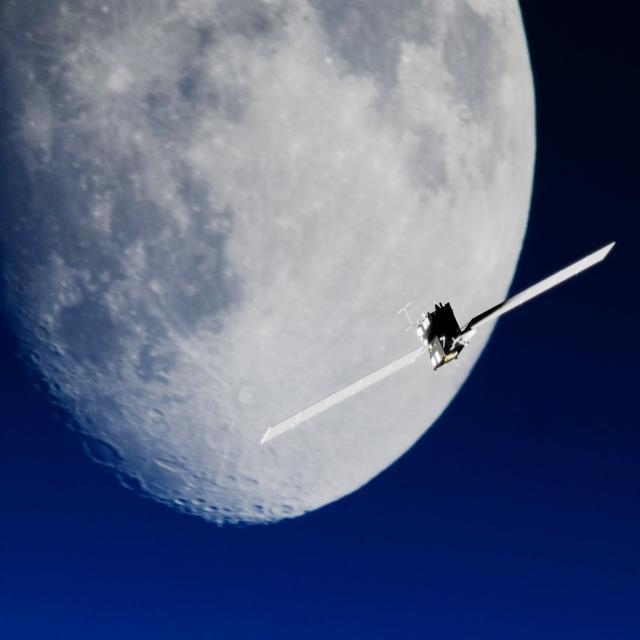satellite: (256, 235, 619, 453)
